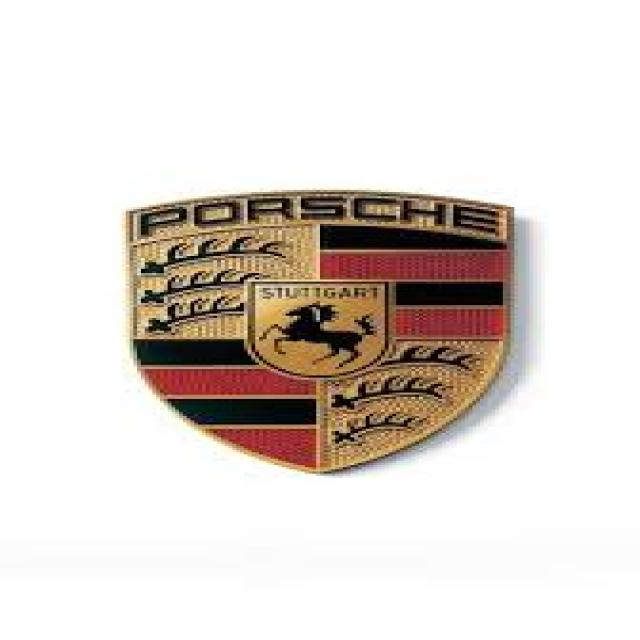porsche: (98, 167, 543, 483)
